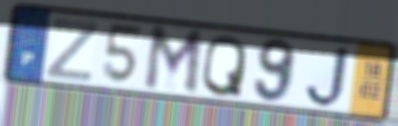5: (100, 20, 147, 88)
9: (254, 36, 300, 107)
J: (303, 44, 352, 109)
M: (141, 24, 206, 99)
Q: (199, 33, 249, 99)
Z: (43, 16, 101, 84)
